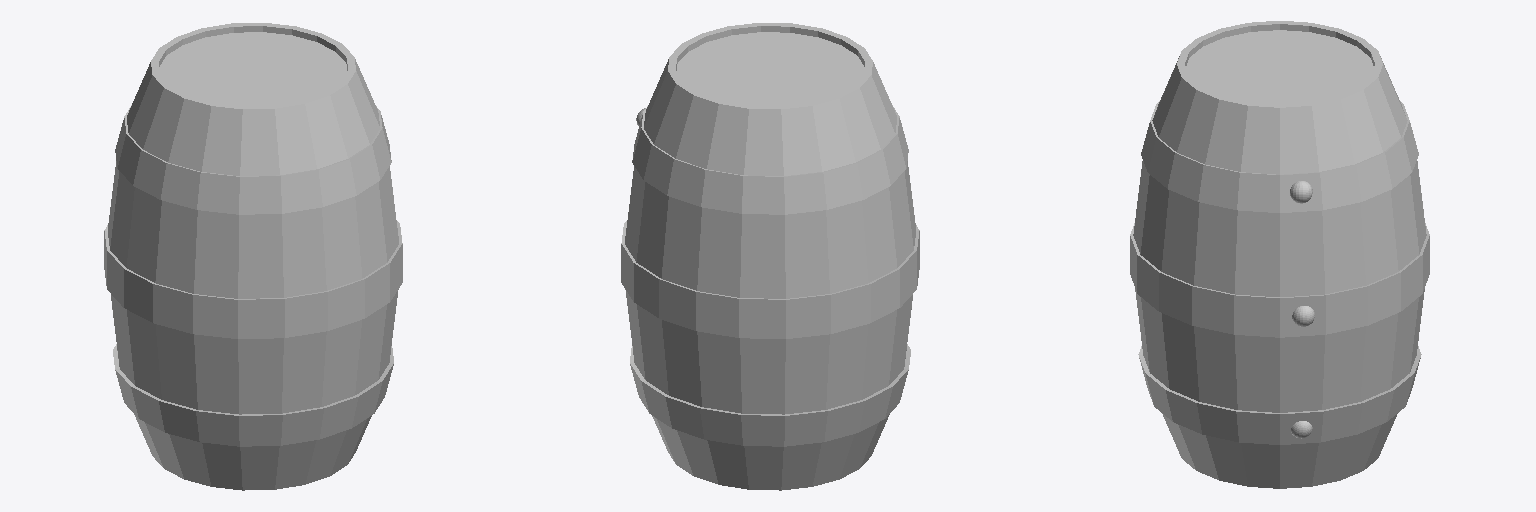
Rendered from barrel.obj.
3 views of the same model, side by side, from view 1: azimuth 30°, elevation 25°; view 2: azimuth 150°, elevation 25°; view 3: azimuth 270°, elevation 25° (orthographic).
Visible parts, largest first — view 1: BARREL BODY0; view 2: BARREL BODY0; view 3: BARREL BODY0.
Boxes of the visible parts, x1=… form: BARREL BODY0: x1=104, y1=23, x2=402, y2=490; BARREL BODY0: x1=621, y1=23, x2=919, y2=490; BARREL BODY0: x1=1130, y1=21, x2=1429, y2=488.
Size of the model in its own units: 5.5 by 7.57 by 5.4.